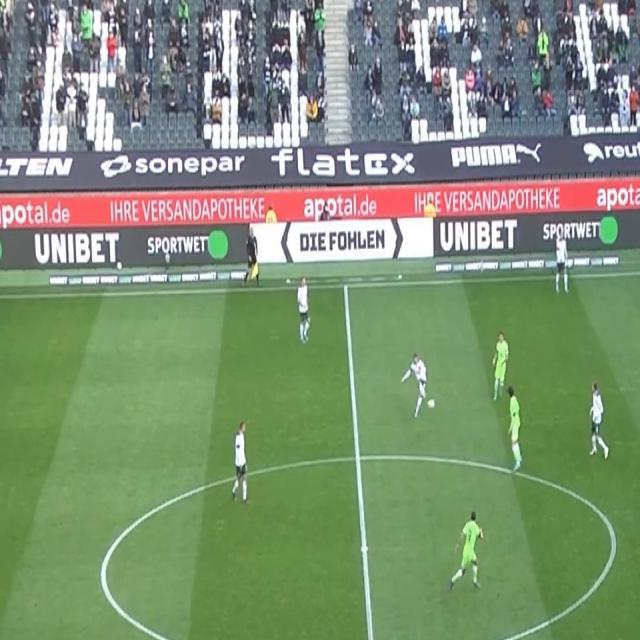ball: (426, 397, 436, 410)
